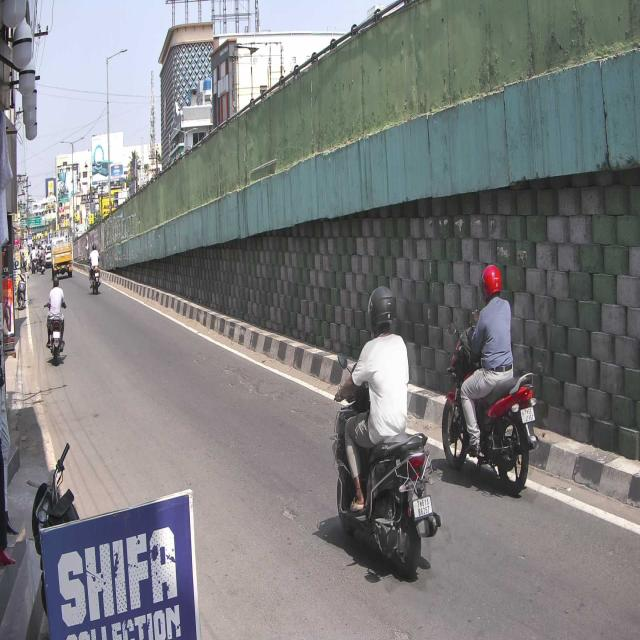single_rider: (330, 283, 440, 580), (443, 261, 539, 500)
